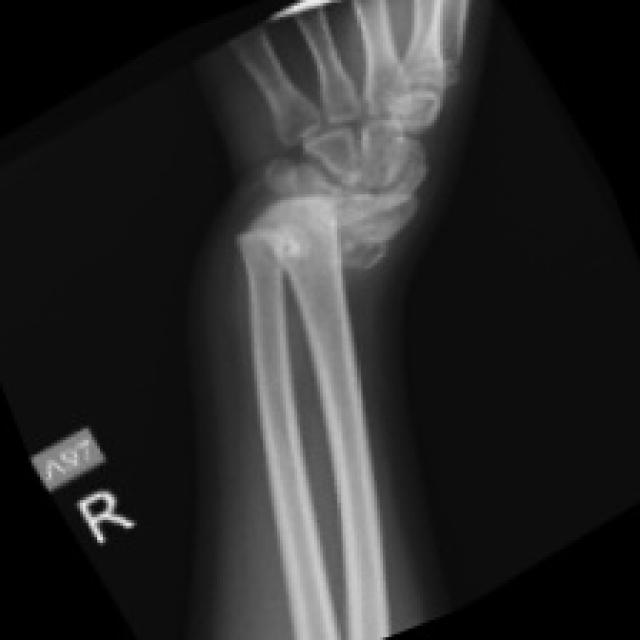fracture: (195, 167, 391, 330)
